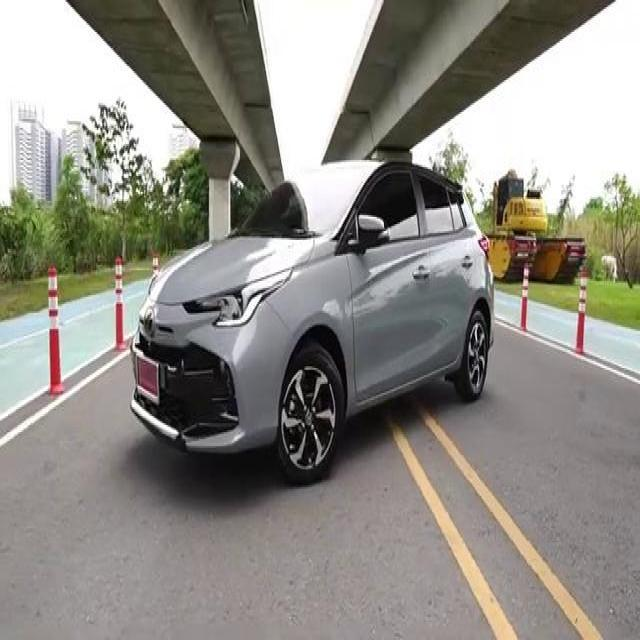Hatchback: (131, 162, 494, 484)
